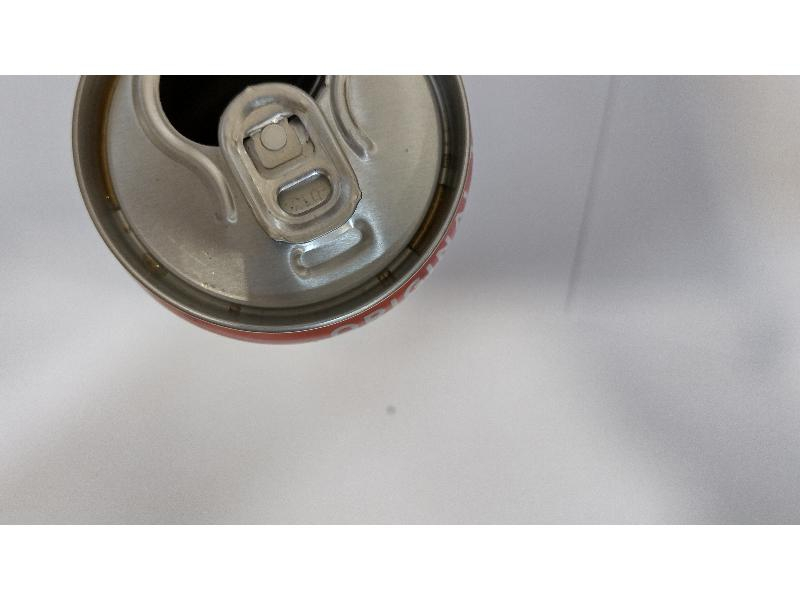can: (69, 76, 478, 351)
